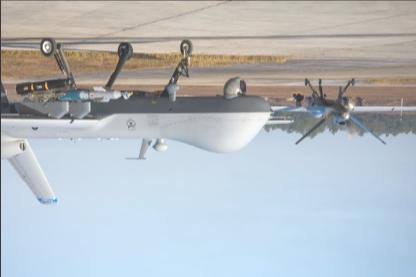MQ9: (1, 36, 274, 205), (270, 77, 415, 144)
